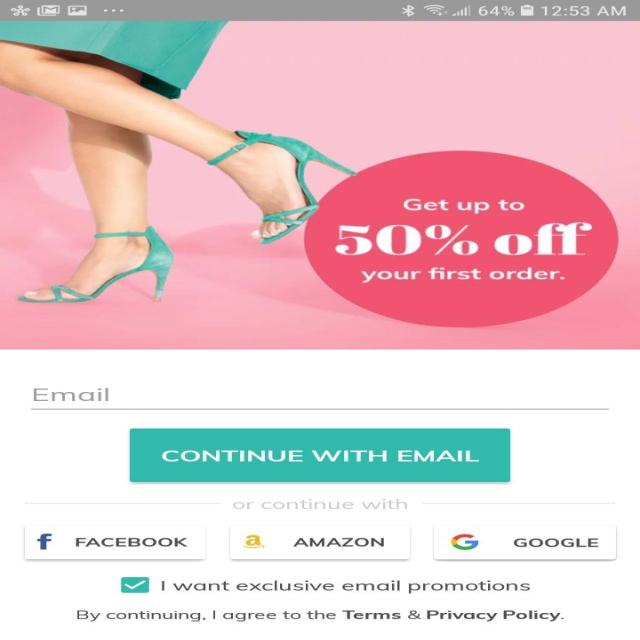EditText: (30, 388, 609, 410)
Image: (0, 21, 639, 350)
Text: (333, 223, 592, 255), (76, 609, 564, 622), (161, 580, 530, 594), (360, 266, 564, 283), (402, 198, 524, 214), (232, 498, 407, 509), (32, 388, 110, 402)
TextButton: (128, 428, 510, 482), (432, 524, 616, 560), (24, 524, 206, 559), (228, 524, 410, 559)
